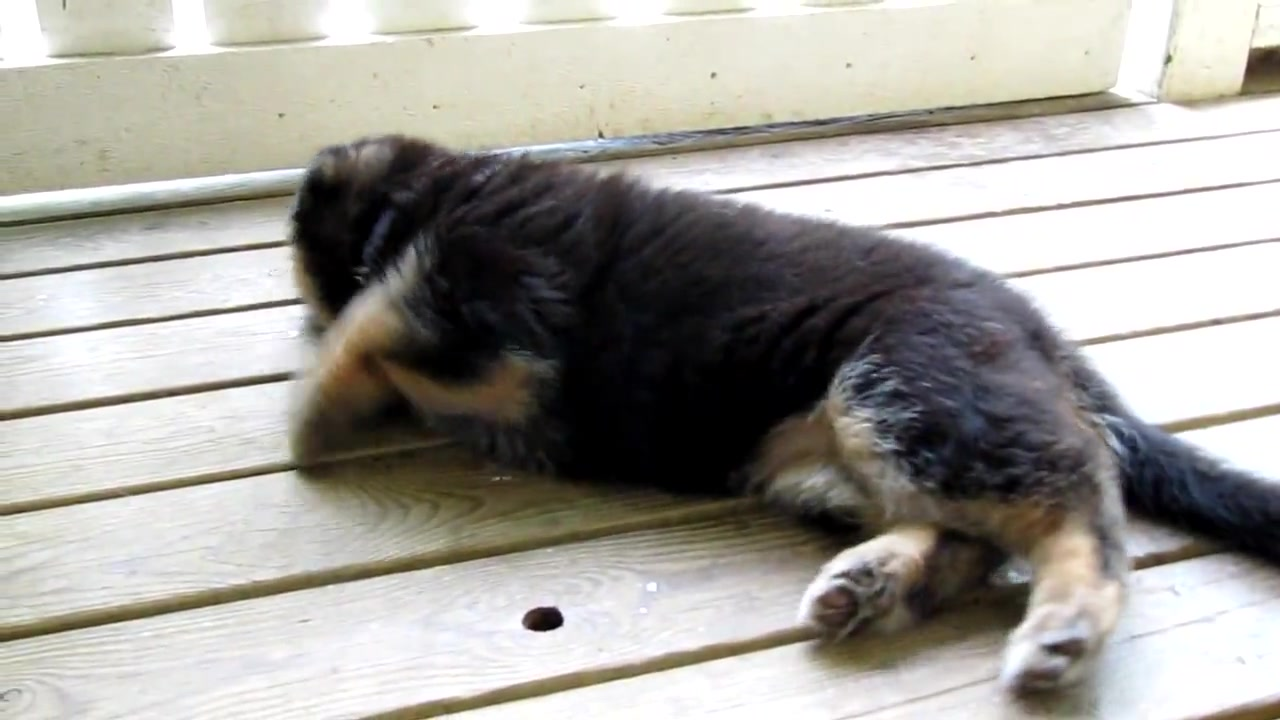dog: (284, 135, 1280, 704)
